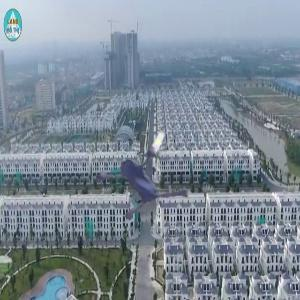drone: (84, 108, 216, 240)
